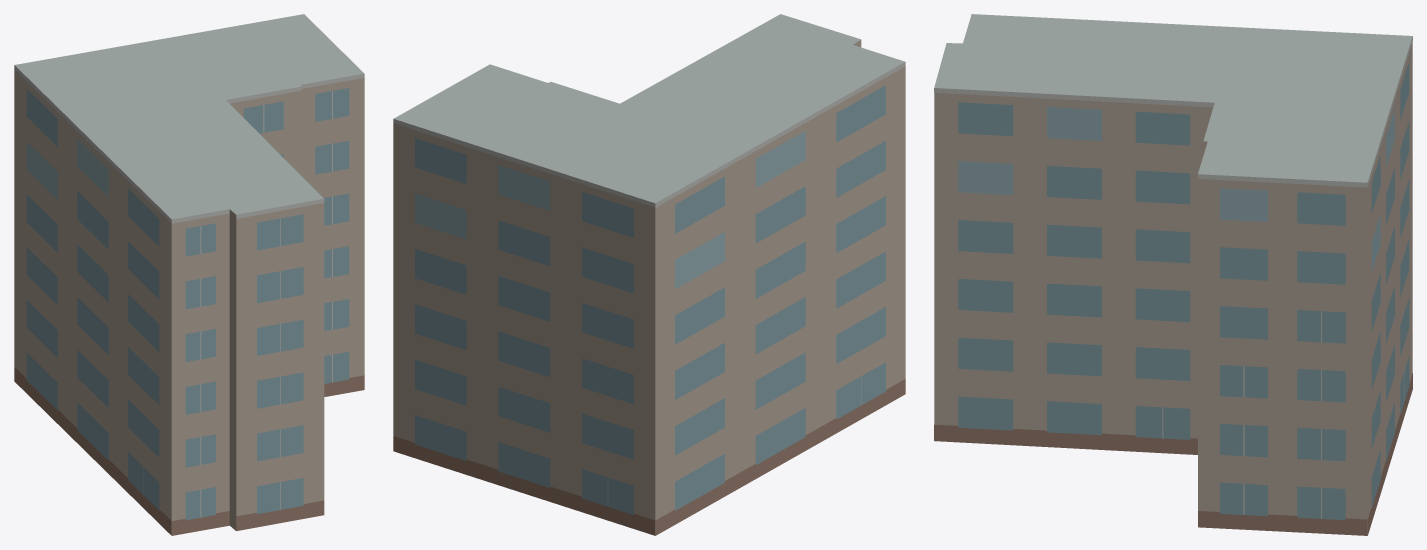
Rendered from survey-upis-32739038.glb.
The picture shows the model from 3 angles, left to right: view 1: azimuth 30°, elevation 25°; view 2: azimuth 150°, elevation 25°; view 3: azimuth 270°, elevation 25°; orthographic projection. The views are drawn at different scales.
Visible parts, largest first — view 1: survey-upis-32739038.tmp; view 2: survey-upis-32739038.tmp; view 3: survey-upis-32739038.tmp.
Part boxes in pixels (x1,y1,x2,y2): survey-upis-32739038.tmp: [14, 14, 364, 535]; survey-upis-32739038.tmp: [393, 14, 905, 535]; survey-upis-32739038.tmp: [934, 14, 1412, 535].
Size of the model in its own units: 18.66 by 18.2 by 22.37.
